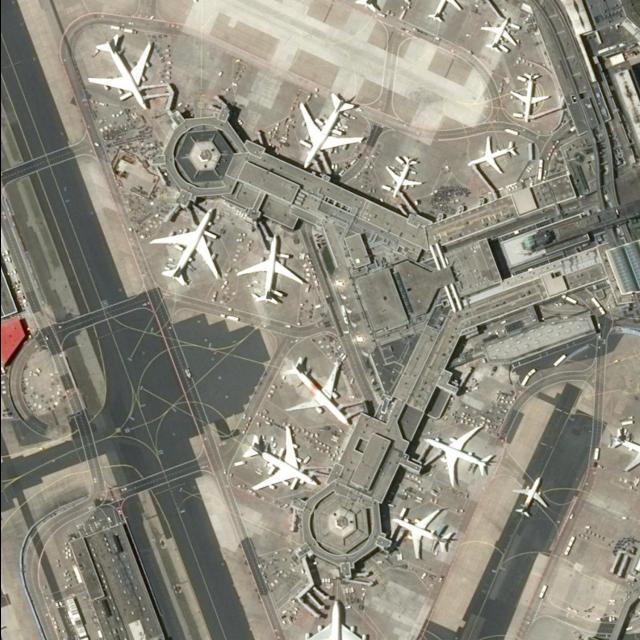Aircraft: (151, 200, 227, 288), (84, 28, 160, 114), (238, 423, 326, 497), (293, 88, 368, 174), (233, 229, 311, 311), (279, 353, 361, 431), (421, 421, 501, 490), (391, 505, 459, 563), (306, 594, 375, 640), (465, 132, 522, 178), (508, 70, 556, 124), (383, 154, 427, 200), (510, 473, 554, 517), (478, 13, 520, 58), (420, 0, 468, 26), (612, 430, 640, 473)
